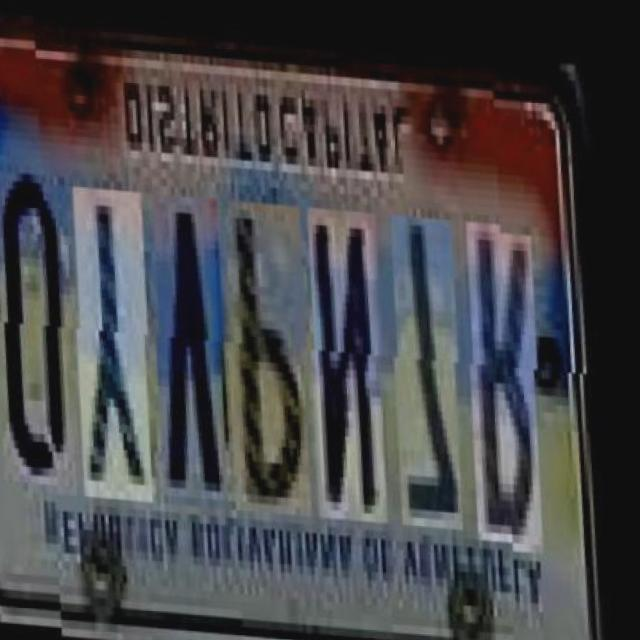0: (0, 179, 100, 494)
7: (391, 206, 486, 521)
n: (307, 201, 410, 516)
p: (225, 195, 335, 511)
r: (466, 212, 567, 535)
v: (153, 190, 251, 505)
y: (73, 184, 175, 499)
